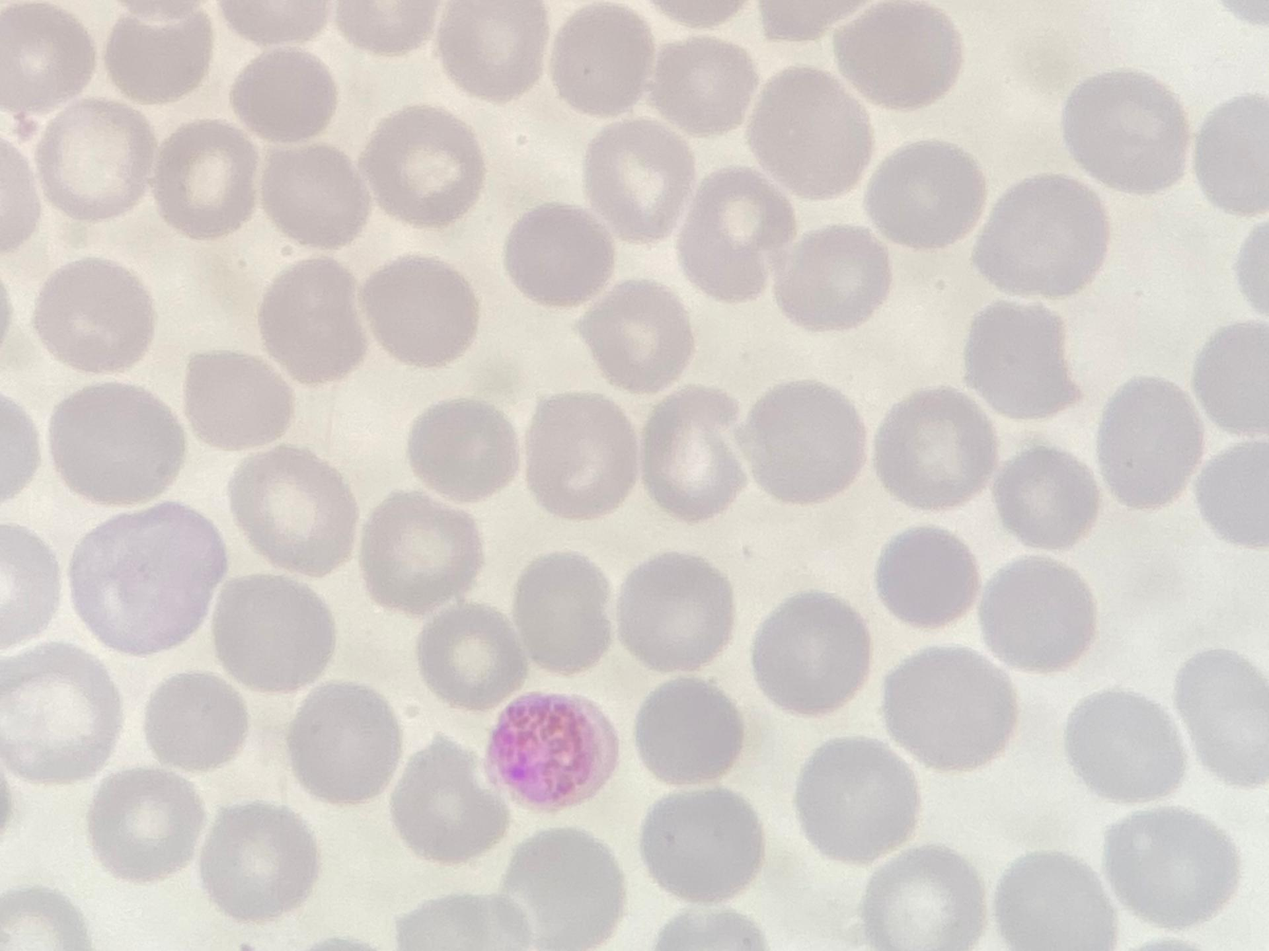Infected: (482, 692, 615, 816)
Uninfected: (68, 504, 225, 652), (48, 380, 186, 507), (745, 68, 874, 198), (881, 646, 1015, 770), (974, 173, 1106, 298), (227, 443, 356, 570), (740, 379, 868, 506), (0, 643, 117, 780), (1104, 808, 1235, 928), (34, 254, 160, 377), (1063, 70, 1190, 192), (360, 107, 487, 229), (793, 740, 917, 862), (749, 591, 871, 714), (521, 391, 638, 519), (872, 388, 995, 509), (616, 549, 736, 673), (861, 137, 987, 255), (638, 387, 750, 519), (360, 492, 484, 611), (677, 174, 794, 300), (640, 787, 767, 903), (38, 98, 157, 221), (502, 827, 626, 945), (255, 256, 371, 382), (212, 574, 336, 691), (359, 254, 481, 371), (390, 743, 510, 861), (833, 2, 964, 110), (286, 679, 401, 802), (200, 801, 317, 918), (1063, 688, 1182, 803), (980, 554, 1096, 671), (582, 119, 696, 238), (510, 550, 619, 674), (579, 279, 695, 395), (1099, 373, 1200, 506), (1173, 648, 1269, 785), (771, 221, 883, 337), (89, 771, 204, 883), (152, 119, 260, 238), (404, 397, 521, 506), (965, 305, 1080, 415), (859, 849, 983, 950), (256, 138, 367, 250), (632, 677, 744, 786), (874, 521, 988, 628), (182, 349, 297, 453), (549, 6, 656, 115), (994, 849, 1112, 947), (996, 441, 1103, 549), (504, 202, 615, 306), (416, 605, 527, 708), (435, 2, 548, 102), (144, 669, 248, 772), (231, 48, 341, 145), (650, 36, 757, 133), (105, 11, 212, 106), (1, 3, 93, 111), (1192, 89, 1268, 211), (1192, 318, 1269, 430), (1194, 438, 1269, 547)
